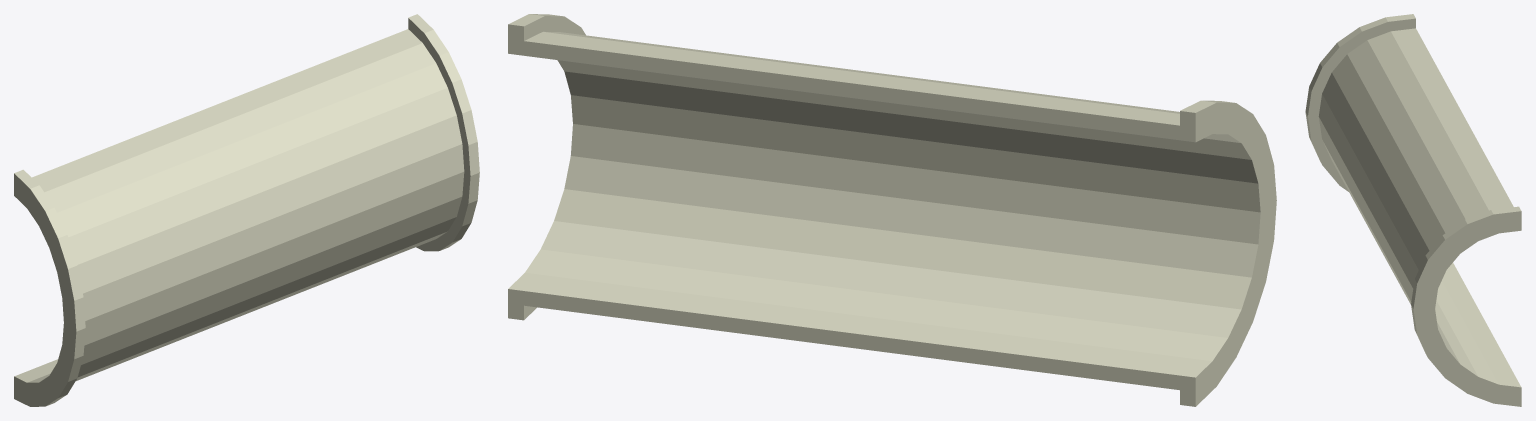
Rendered from section_236.obj.
The picture shows the model from 3 angles, left to right: view 1: azimuth 30°, elevation 25°; view 2: azimuth 150°, elevation 25°; view 3: azimuth 270°, elevation 25°; orthographic projection. The views are drawn at different scales.
Size of the model in its own units: 43.18 by 20 by 20.
